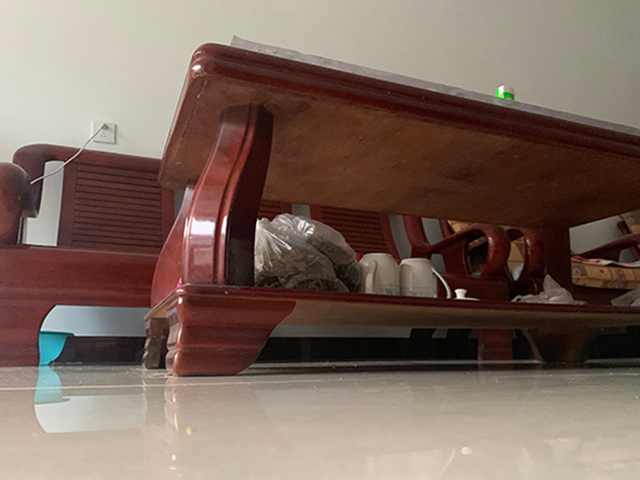sofa: (1, 143, 171, 368)
table: (142, 42, 640, 379)
wire: (33, 121, 114, 187)
